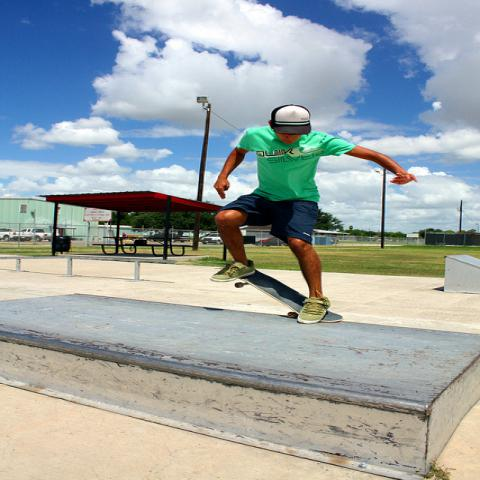car: (256, 238, 289, 248)
truck: (15, 228, 52, 242), (149, 233, 191, 242), (200, 233, 224, 245), (0, 228, 20, 241)
